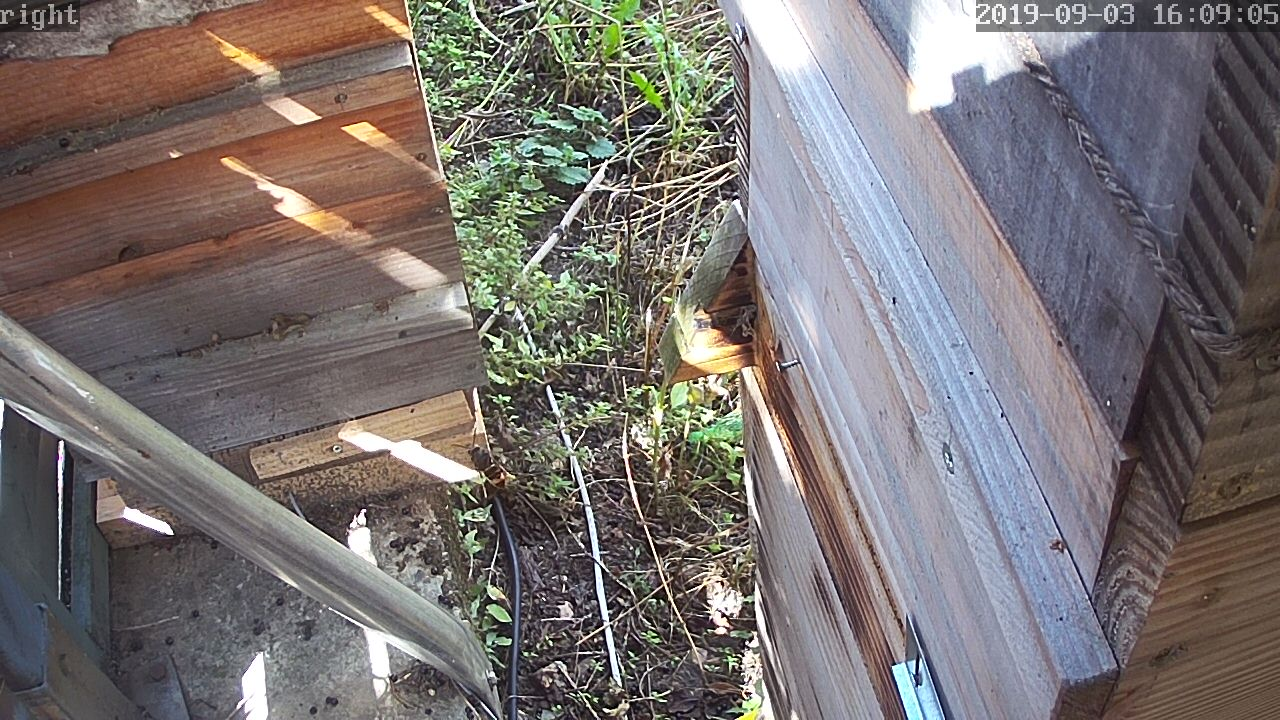hornet: (450, 427, 510, 500)
